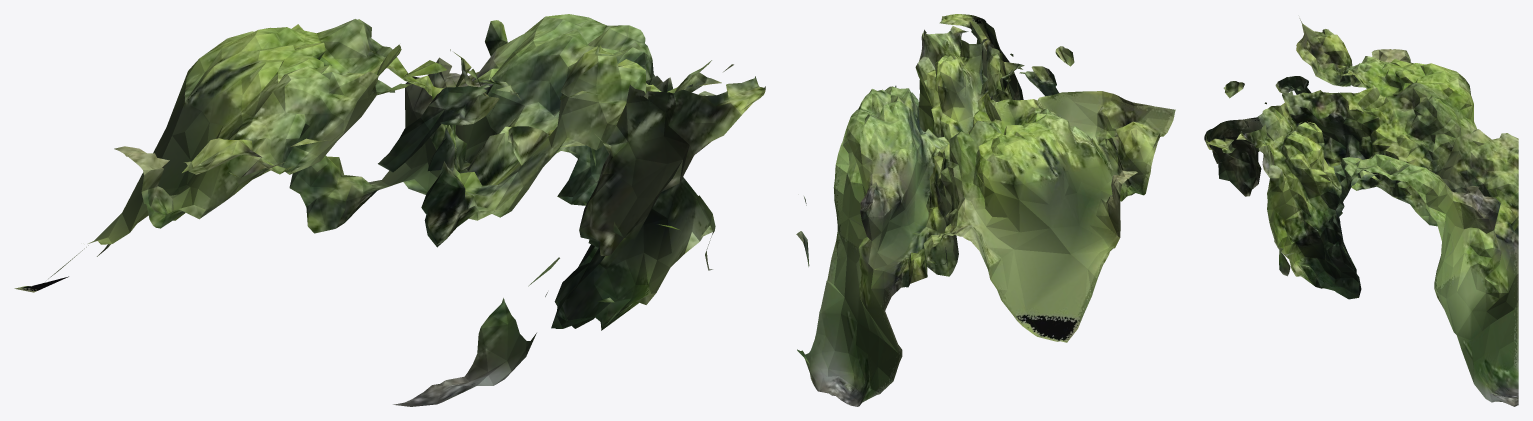
3 views of the same model, side by side, from view 1: azimuth 30°, elevation 25°; view 2: azimuth 150°, elevation 25°; view 3: azimuth 270°, elevation 25° (orthographic). The views are drawn at different scales.
Bounding box in the file's own units: 52.22 × 49.61 × 51.65.
5 materials, 5 textured.
